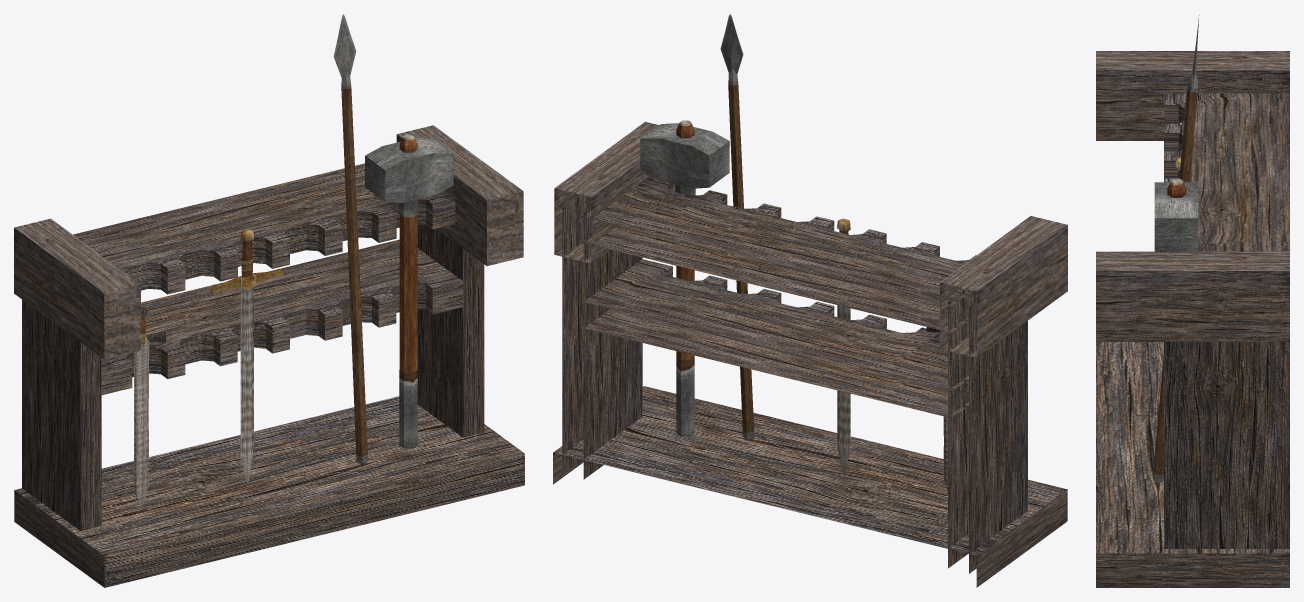
Rendered from mm9_deco_weaponracknsusedg2.glb.
The picture shows the model from 3 angles, left to right: view 1: azimuth 30°, elevation 25°; view 2: azimuth 150°, elevation 25°; view 3: azimuth 270°, elevation 25°; orthographic projection. The views are drawn at different scales.
Parts seen in each view (by area): view 1: Weaponracknsusedg2; view 2: Weaponracknsusedg2; view 3: Weaponracknsusedg2.
Part boxes in pixels (x1,y1,x2,y2): Weaponracknsusedg2: [14, 14, 524, 587]; Weaponracknsusedg2: [553, 14, 1067, 587]; Weaponracknsusedg2: [1096, 15, 1289, 587].
Size of the model in its own units: 1.95 by 2.08 by 0.7263.
2 materials, 2 textured.
